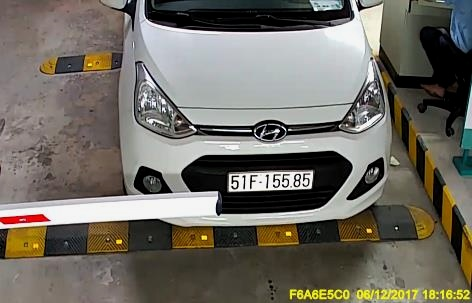plate: (226, 166, 313, 192)
